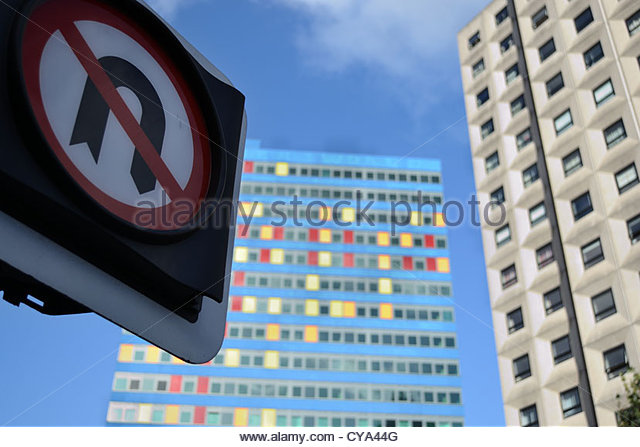No_u_turn: (22, 1, 215, 230)
